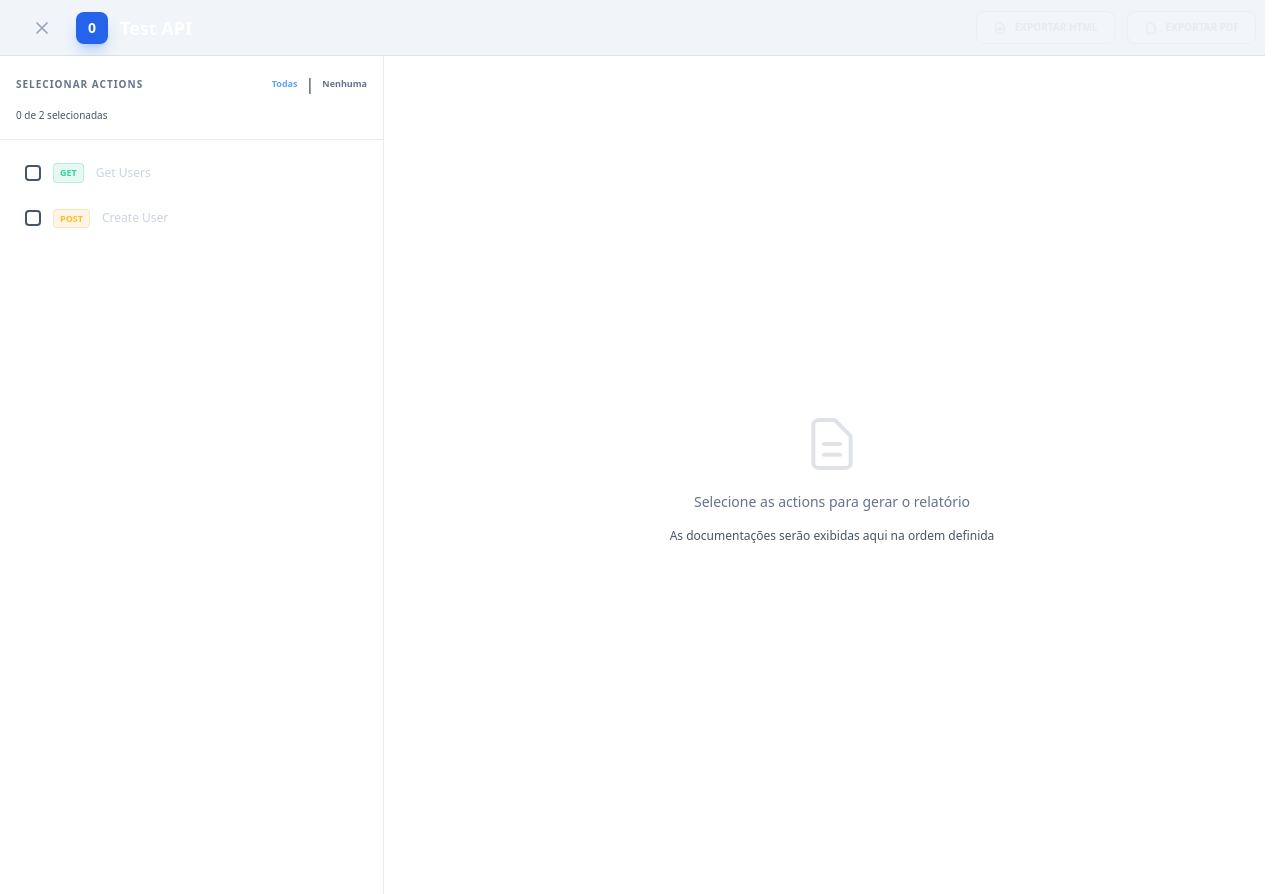
Scenario: ReportGeneratorModal › should deselect all when "Nenhuma" is clicked
This screenshot has width=1280, height=894.
Click the button "Todas" at (285,84), box [272,72,298,96]
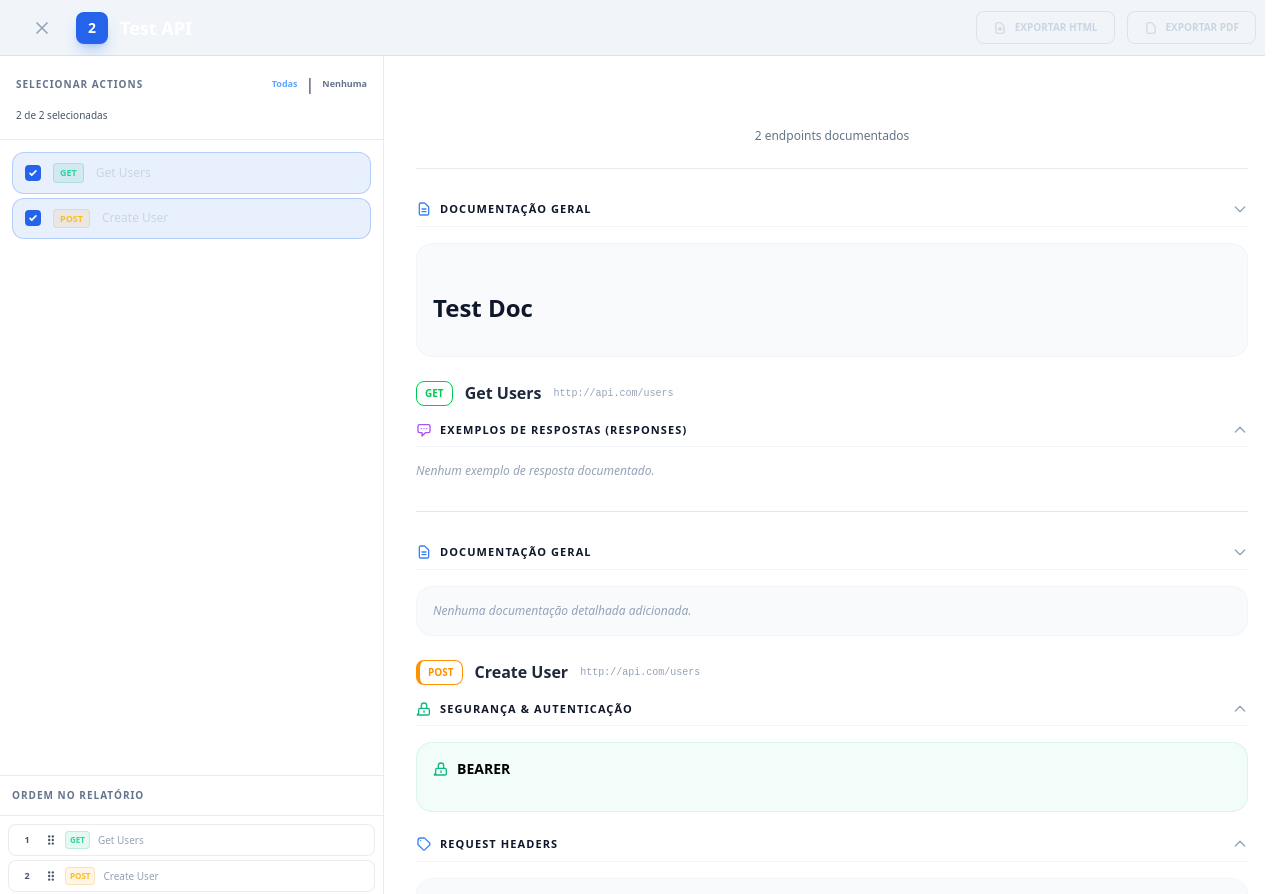
Click the button "Nenhuma" at (345,84), box [322,72,367,96]
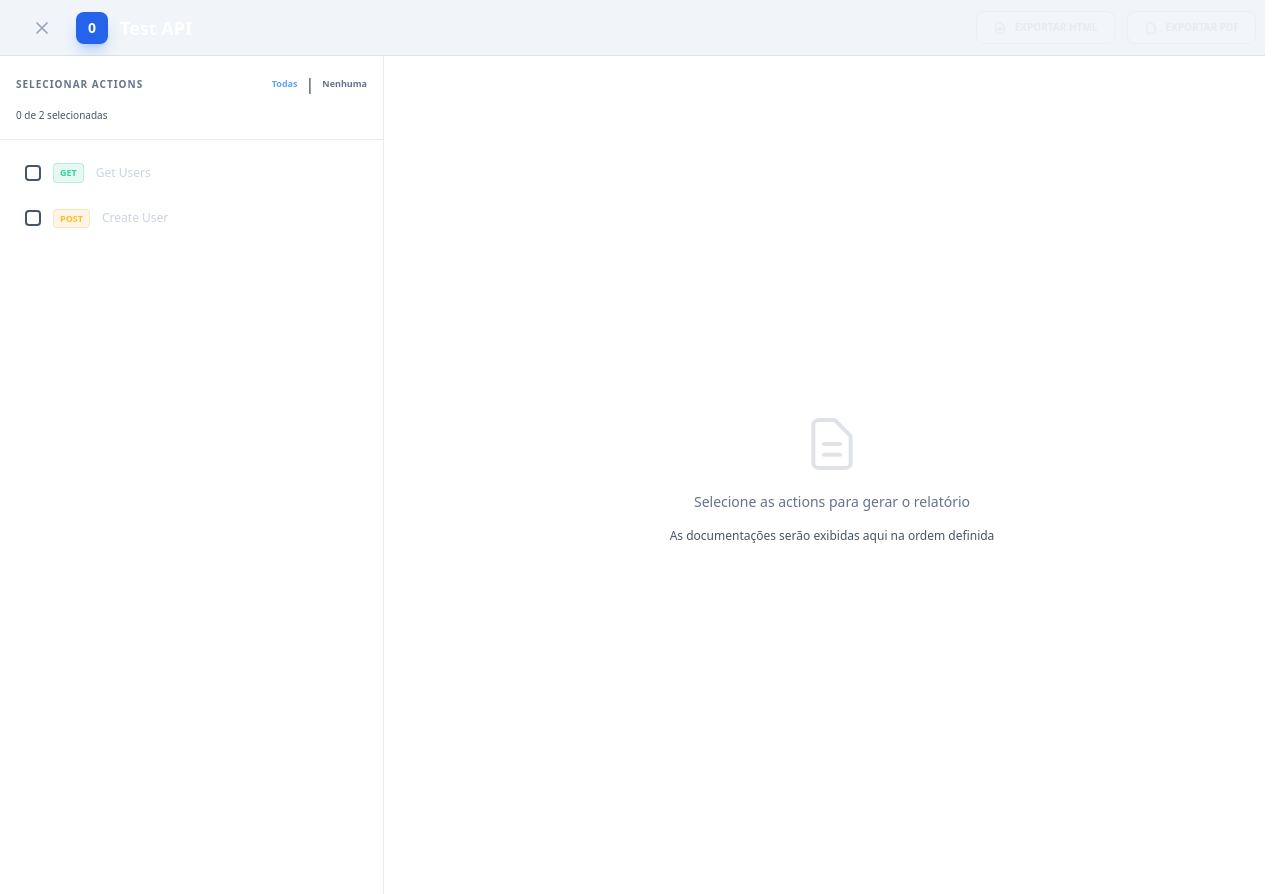
Result: the text "0 de 2 selecionadas" is shown at [16,108,108,122]
